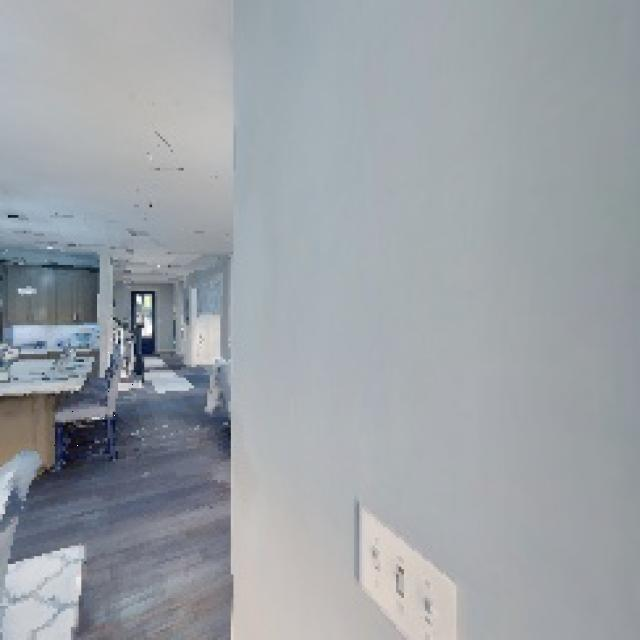chair: (43, 331, 150, 478)
